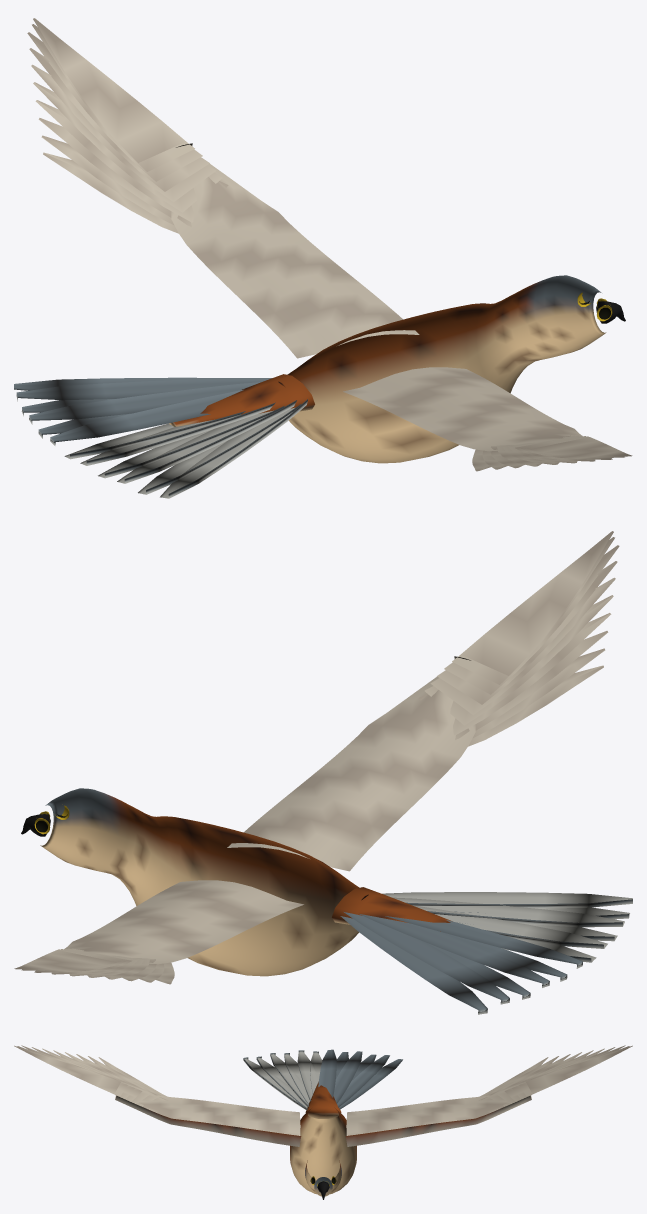
The model's file is SM_Bird_kestrel_flap1.glb.
3 renders of one model, top to bottom at view 1: azimuth 30°, elevation 25°; view 2: azimuth 150°, elevation 25°; view 3: azimuth 270°, elevation 25°, orthographic. The views are drawn at different scales.
Visible parts, largest first — view 1: SM_Bird_kestrel_flap1; view 2: SM_Bird_kestrel_flap1; view 3: SM_Bird_kestrel_flap1.
Boxes of the visible parts, left/top/right/bottom form: SM_Bird_kestrel_flap1: left=14, top=18, right=632, bottom=498; SM_Bird_kestrel_flap1: left=14, top=531, right=632, bottom=1014; SM_Bird_kestrel_flap1: left=14, top=1045, right=632, bottom=1199.
Bounding box in the file's own units: 0.379 × 0.1541 × 0.6938.
